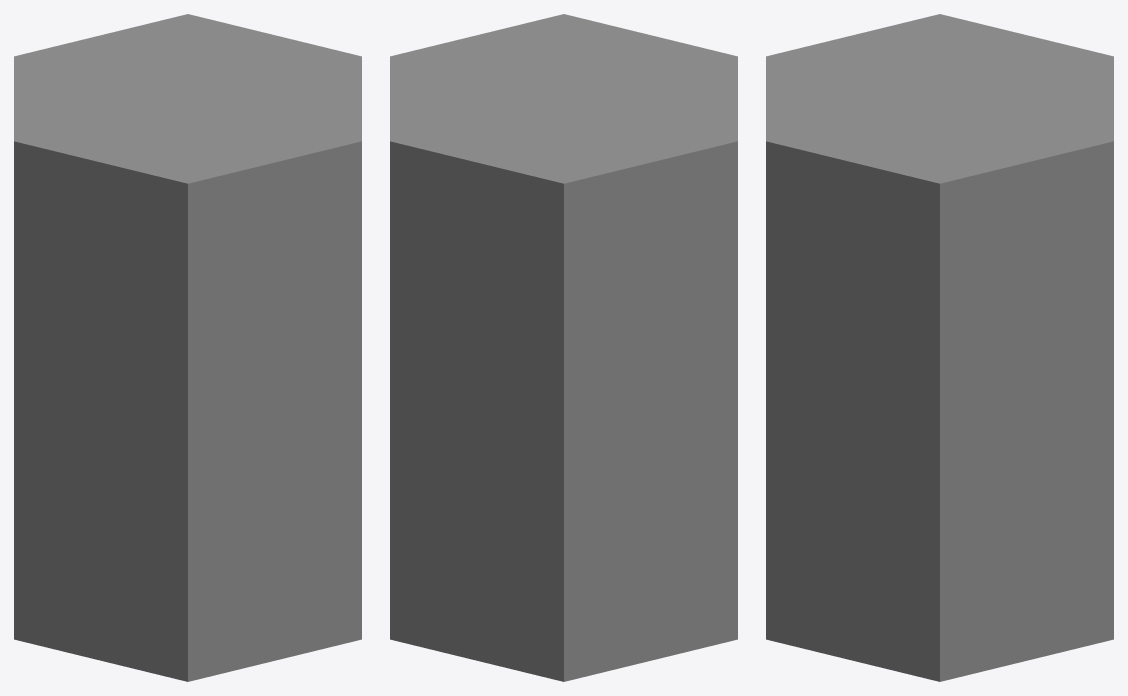
File: can_B.FBX
3 views of the same model, side by side, from view 1: azimuth 30°, elevation 25°; view 2: azimuth 150°, elevation 25°; view 3: azimuth 270°, elevation 25° (orthographic).
Visible parts, largest first — view 1: can_B; view 2: can_B; view 3: can_B.
Boxes of the visible parts, bbox=[...] form: can_B: bbox=[14, 14, 361, 681]; can_B: bbox=[390, 14, 737, 681]; can_B: bbox=[766, 14, 1113, 681].
Bounding box in the file's own units: 7.69 × 10.53 × 6.66.
